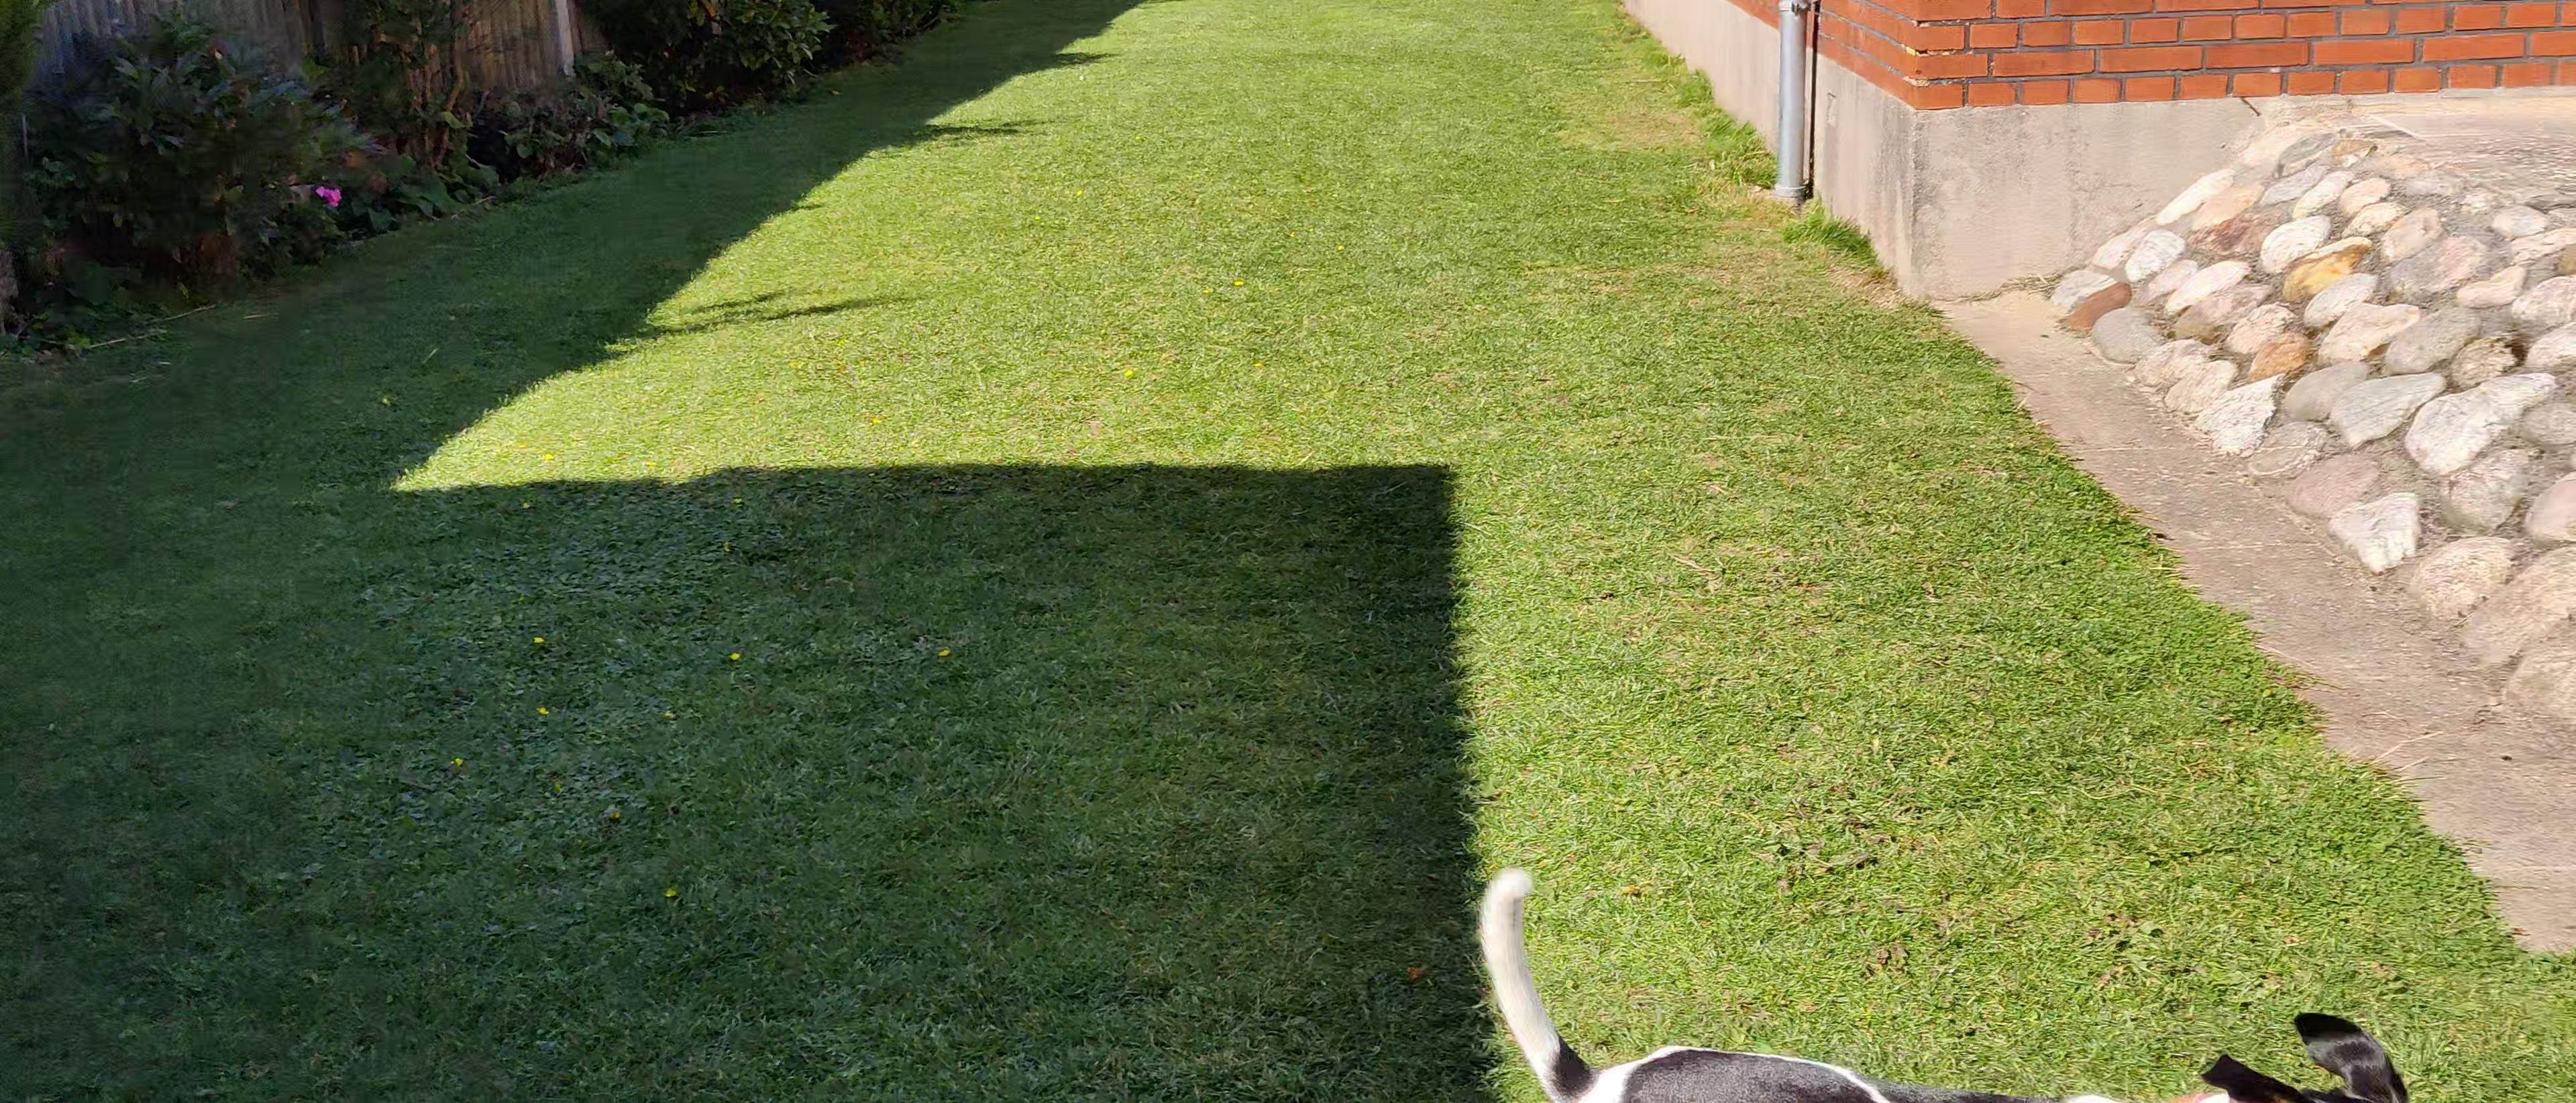Dog: (1465, 832, 2426, 1103)
